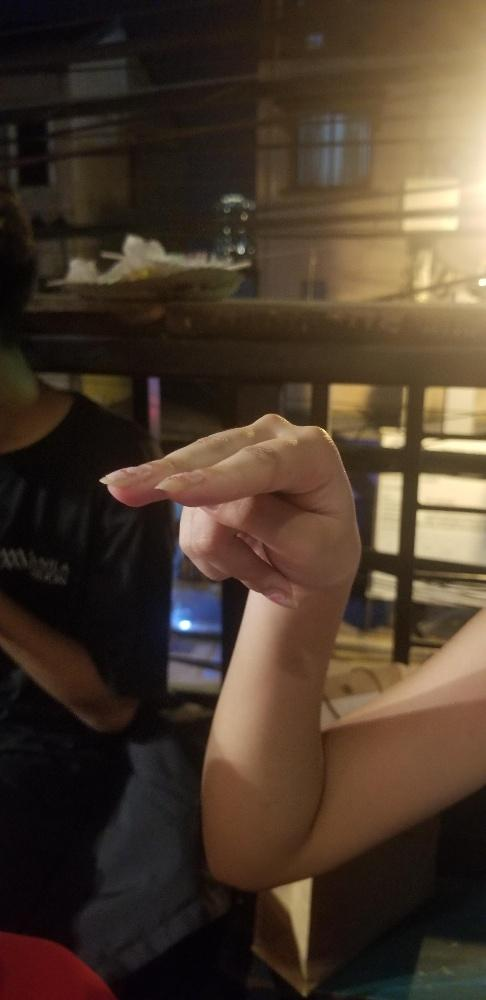n: (91, 409, 365, 610)
